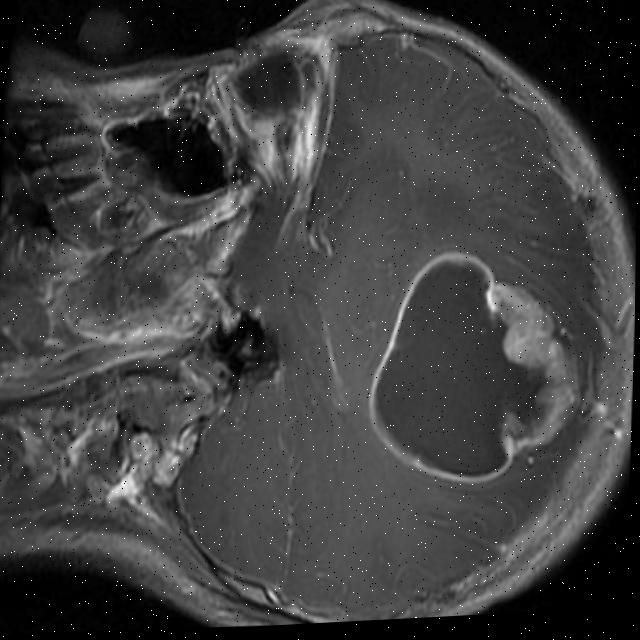Glioma: (362, 241, 588, 492)
